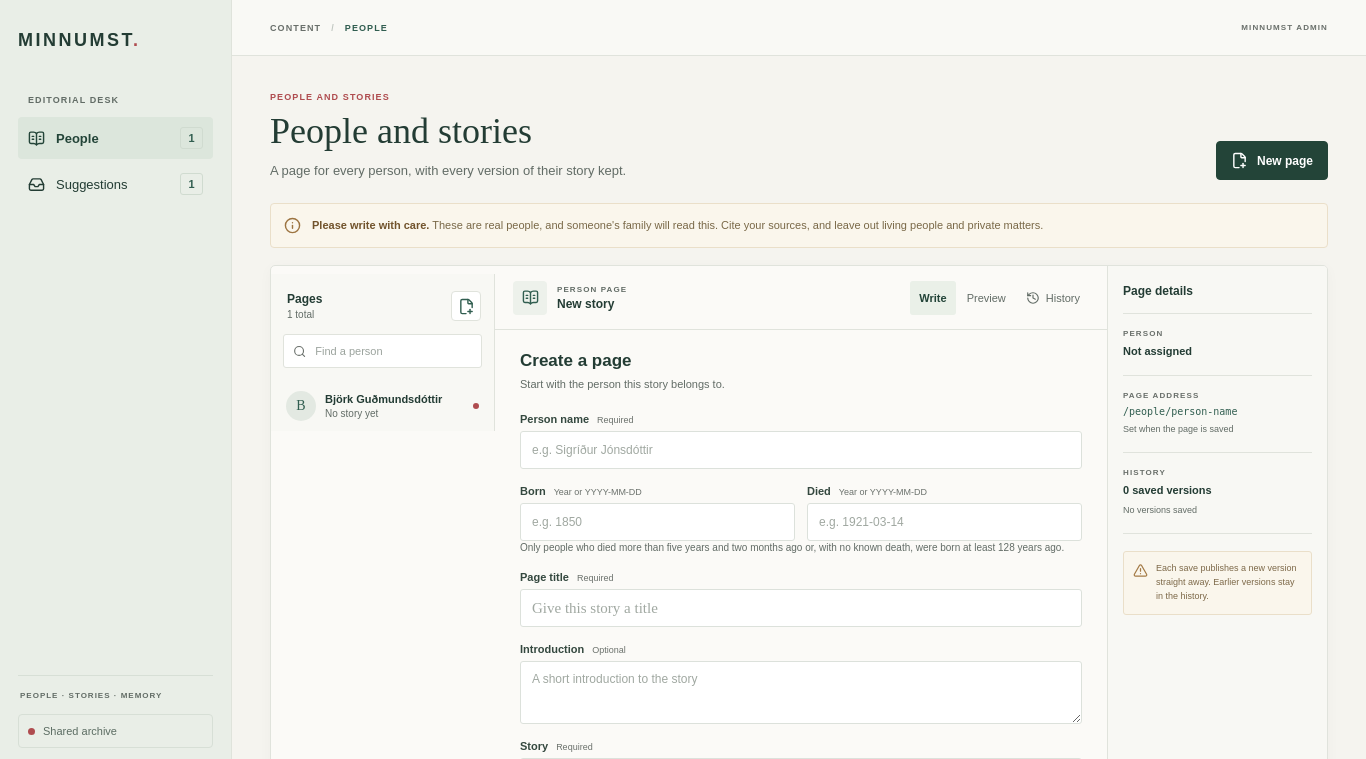
Test case: the desk's navigation › ignores an accepted edit for someone no longer in the list
The width and height of the screenshot is (1366, 759).
Click the link "Suggestions 1": (116, 184) x1=28 y1=173 x2=203 y2=195
(page scrolled)
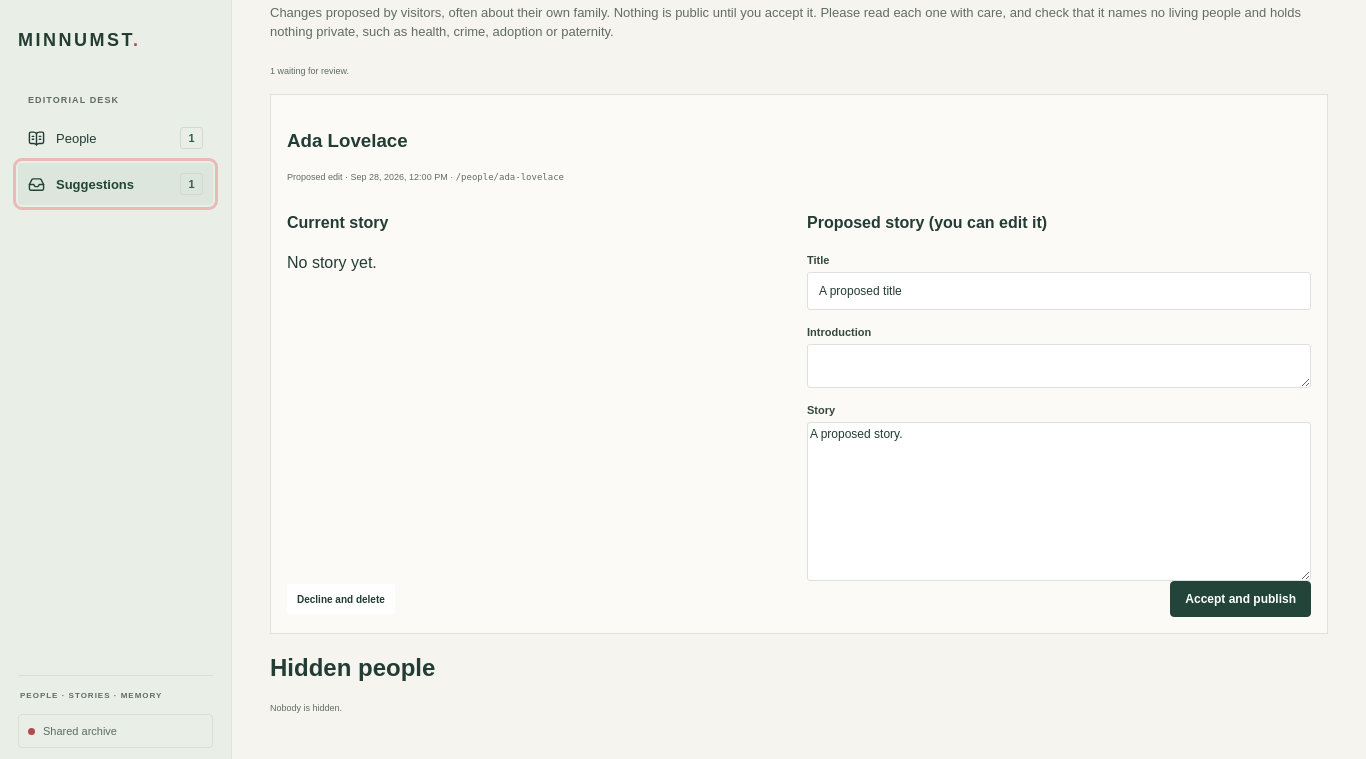
Click the button "Accept and publish": (1241, 599) x1=1170 y1=581 x2=1311 y2=617
(page scrolled)
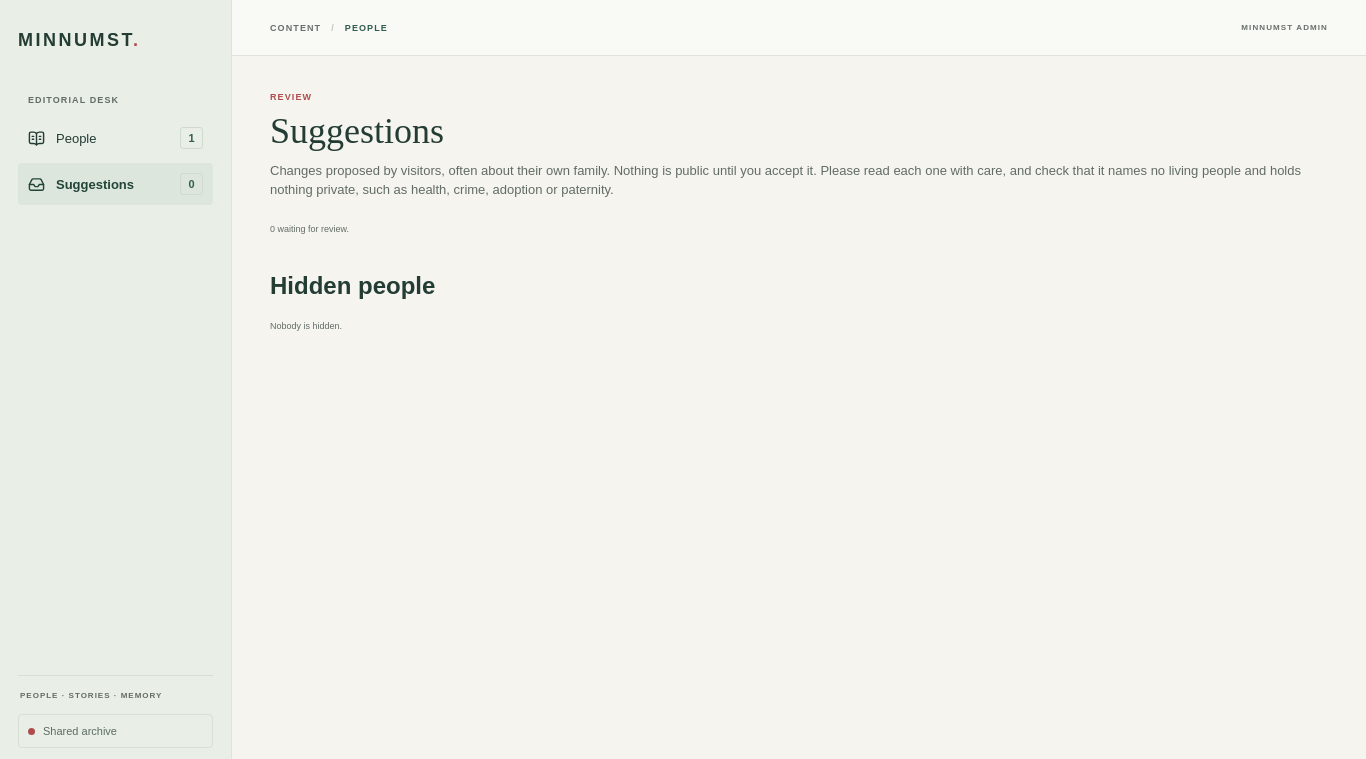
Expected: the text "0 waiting for review." is shown, x1=270 y1=224 x2=349 y2=234
